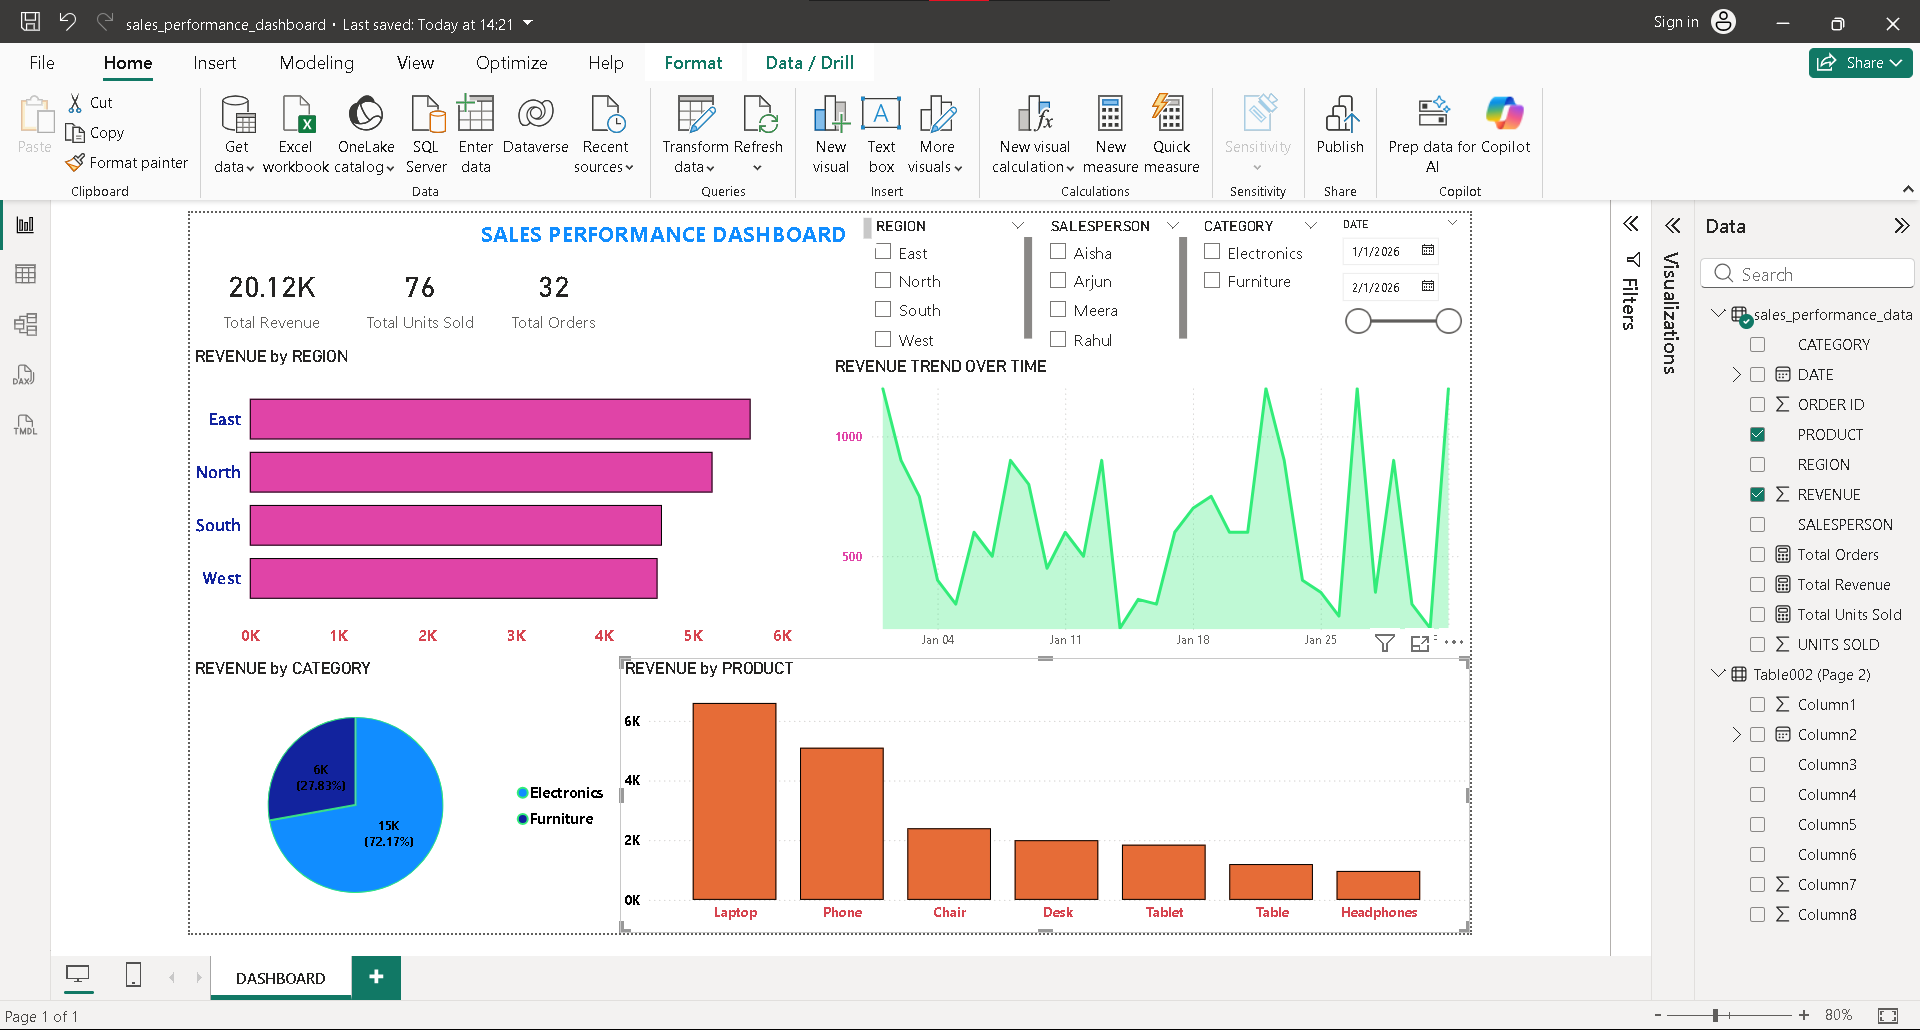

Layout of this report page (visuals, bound fields, positions):
{"tool":"powerbi","page":{"name":" DASHBOARD","canvas":[1280,720],"ordinal":0},"visuals":[{"type":"card","fields":{"Values":["sales_performance_data.Total Revenue"]},"box":[0,35,164.1,97.7],"z":1000},{"type":"card","fields":{"Values":["sales_performance_data.Total Units Sold"]},"box":[162.9,35,136.3,97.7],"z":2000},{"type":"card","fields":{"Values":["sales_performance_data.Total Orders"]},"box":[299.2,35,130.3,97.7],"z":3000},{"type":"clusteredBarChart","fields":{"Category":["sales_performance_data.REGION"],"Y":["Sum(sales_performance_data.REVENUE)"]},"box":[0,132.7,606.8,312.5],"z":4000},{"type":"clusteredColumnChart","fields":{"Category":["sales_performance_data.PRODUCT"],"Y":["Sum(sales_performance_data.REVENUE)"]},"box":[429.5,445.2,850.5,275.1],"z":5000},{"type":"lineChart","title":"REVENUE TREND OVER TIME","fields":{"Y":["Sum(sales_performance_data.REVENUE)"],"Category":["sales_performance_data.DATE.Variation.Date Hierarchy.Year","sales_performance_data.DATE.Variation.Date Hierarchy.Quarter","sales_performance_data.DATE.Variation.Date Hierarchy.Month","sales_performance_data.DATE.Variation.Date Hierarchy.Day"]},"box":[639.4,142.4,640.6,302.8],"z":6000},{"type":"pieChart","fields":{"Category":["sales_performance_data.CATEGORY"],"Y":["Sum(sales_performance_data.REVENUE)"]},"box":[0,445.2,429.5,275.1],"z":7000},{"type":"slicer","fields":{"Values":["sales_performance_data.REGION"]},"box":[672,0,174.9,142.4],"z":8000},{"type":"slicer","fields":{"Values":["sales_performance_data.SALESPERSON"]},"box":[846.9,0,154.4,142.4],"z":9000},{"type":"slicer","fields":{"Values":["sales_performance_data.CATEGORY"]},"box":[1001.3,0,138.7,142.4],"z":10000},{"type":"slicer","fields":{"Values":["sales_performance_data.DATE"]},"box":[1140.1,0,139.9,142.4],"z":11000},{"type":"textbox","box":[269,0,417.4,35],"z":12000}]}

Visuals, with their boxes on the page's 1280x720 design canvas (x1, y1, x2, y2). These are canvas units, not pixel positions in the 1920x1030 screenshot, which may show the page scaled, cropped or inside an application window:
card - sales_performance_data.Total Revenue: [left=0, top=35, right=164, bottom=133]
card - sales_performance_data.Total Units Sold: [left=163, top=35, right=299, bottom=133]
card - sales_performance_data.Total Orders: [left=299, top=35, right=430, bottom=133]
clusteredBarChart - sales_performance_data.REGION x Sum(sales_performance_data.REVENUE): [left=0, top=133, right=607, bottom=445]
clusteredColumnChart - sales_performance_data.PRODUCT x Sum(sales_performance_data.REVENUE): [left=430, top=445, right=1280, bottom=720]
"REVENUE TREND OVER TIME" lineChart: [left=639, top=142, right=1280, bottom=445]
pieChart - sales_performance_data.CATEGORY x Sum(sales_performance_data.REVENUE): [left=0, top=445, right=430, bottom=720]
slicer - sales_performance_data.REGION: [left=672, top=0, right=847, bottom=142]
slicer - sales_performance_data.SALESPERSON: [left=847, top=0, right=1001, bottom=142]
slicer - sales_performance_data.CATEGORY: [left=1001, top=0, right=1140, bottom=142]
slicer - sales_performance_data.DATE: [left=1140, top=0, right=1280, bottom=142]
textbox: [left=269, top=0, right=686, bottom=35]
